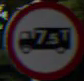Heavy Vehicles: (8, 3, 76, 70)
